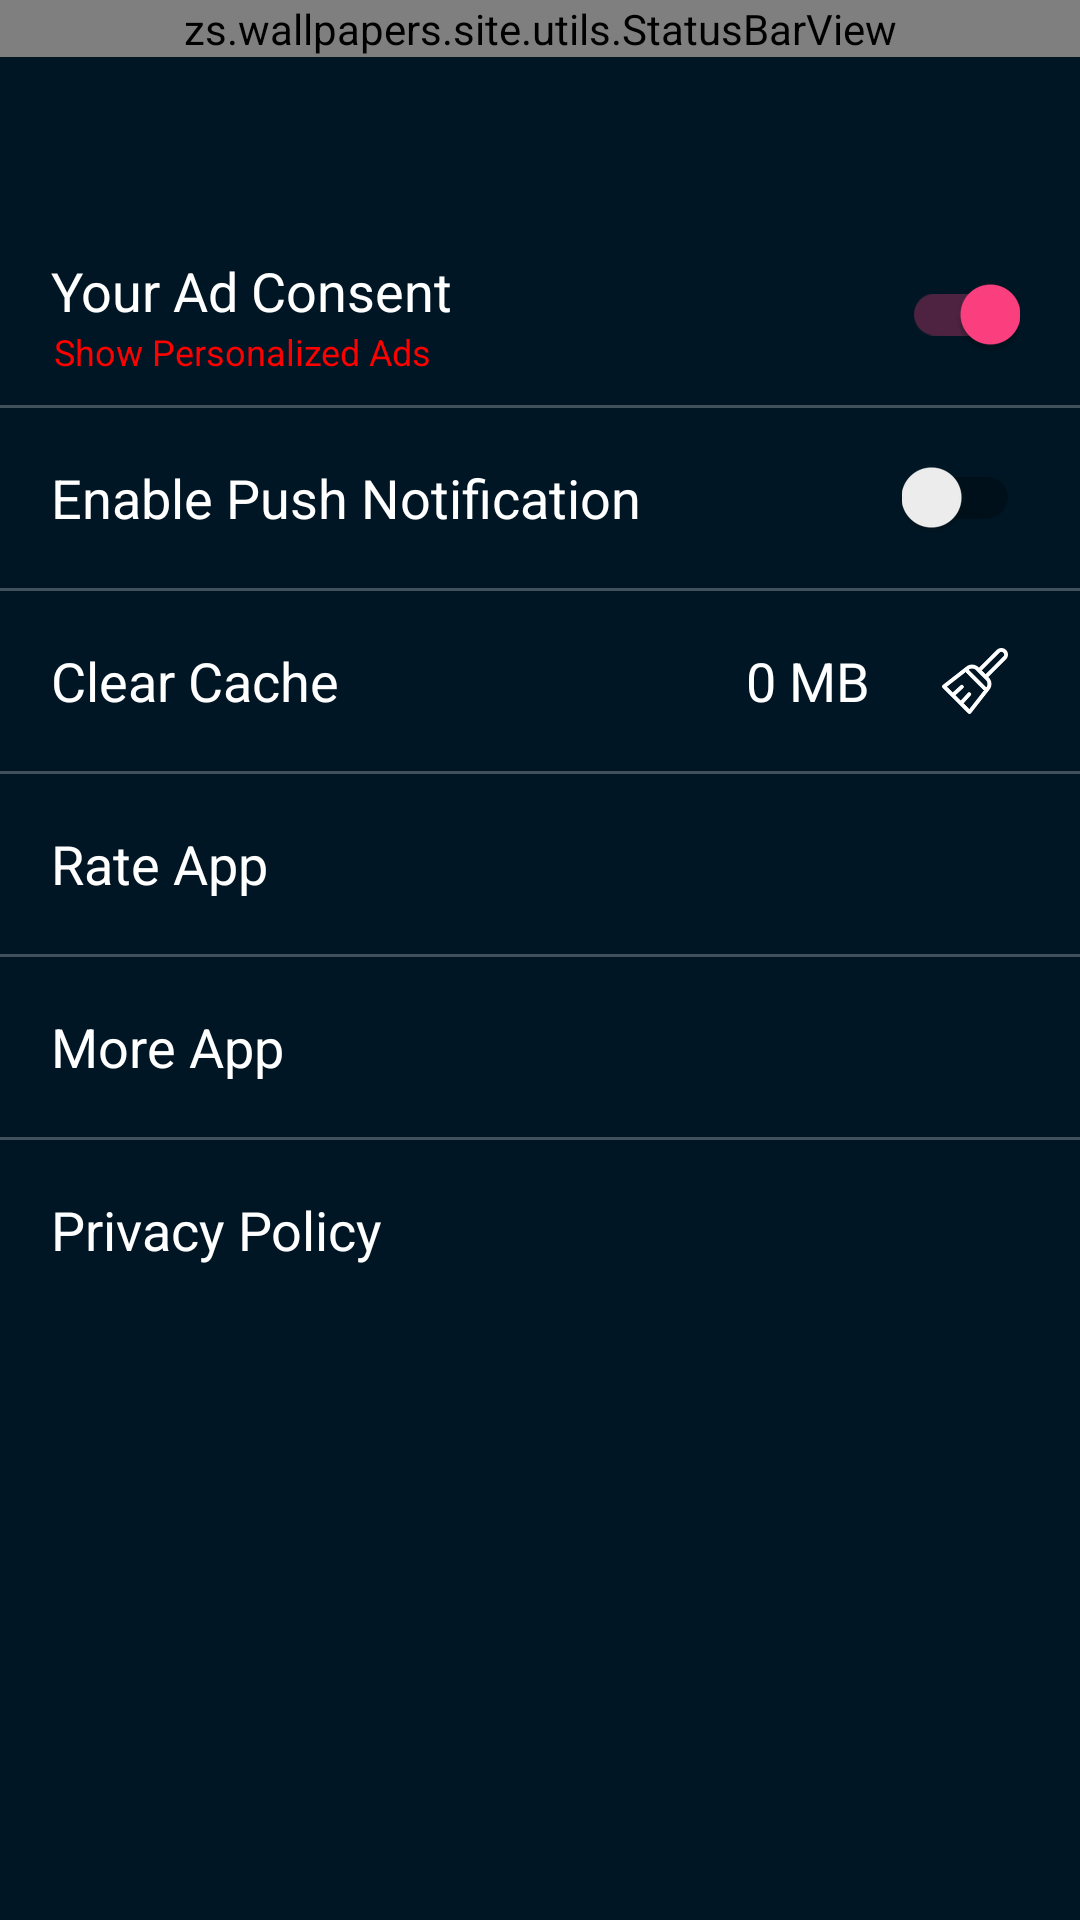

Where to tap for icons on this 1080w x 1920h app screen, as (x=x, y=y):
clear: (x=975, y=681)
